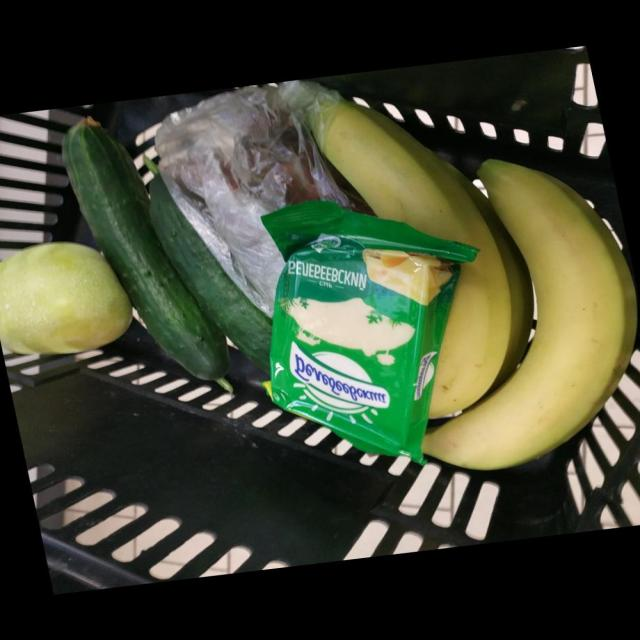Apple: (0, 241, 132, 354)
Banana: (315, 100, 532, 418), (422, 159, 638, 469)
Cheese: (262, 200, 476, 463)
Cucumber: (62, 119, 230, 380), (148, 175, 272, 372)
